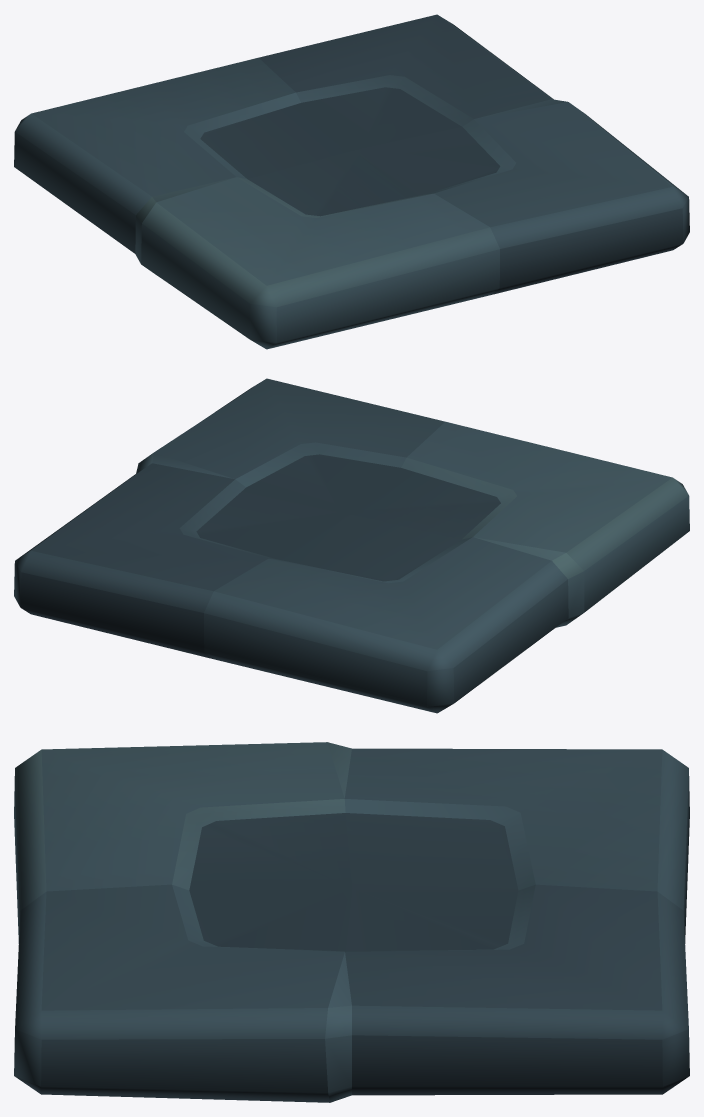
The model's file is floor_deco_element_2.fbx.
The picture shows the model from 3 angles, top to bottom: view 1: azimuth 30°, elevation 25°; view 2: azimuth 150°, elevation 25°; view 3: azimuth 270°, elevation 25°; orthographic projection. The views are drawn at different scales.
Parts seen in each view (by area): view 1: floor_deco_element_2; view 2: floor_deco_element_2; view 3: floor_deco_element_2.
Part boxes in pixels (x1,y1,x2,y2): floor_deco_element_2: (14,14,689,349); floor_deco_element_2: (14,378,689,713); floor_deco_element_2: (14,742,689,1102).
Bounding box in the file's own units: 218 × 33.88 × 217.
